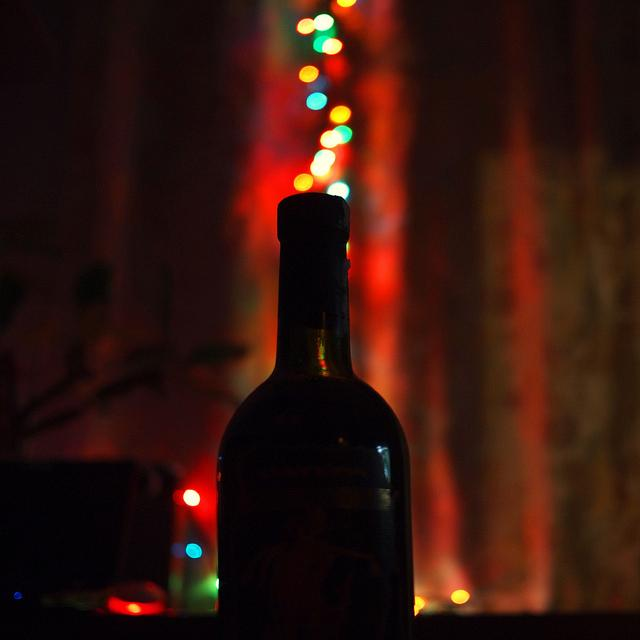Bottle: (207, 194, 417, 635)
